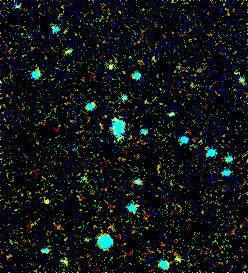star: (33, 185, 63, 215)
